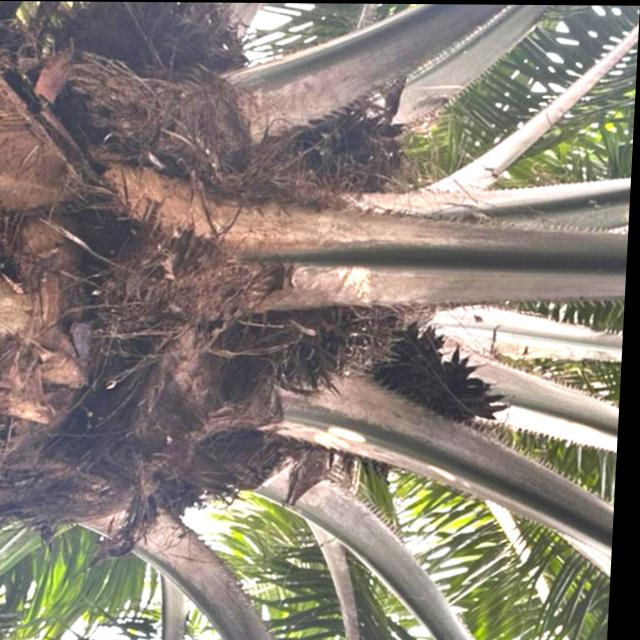unripe: (64, 0, 260, 100), (237, 295, 408, 400)
